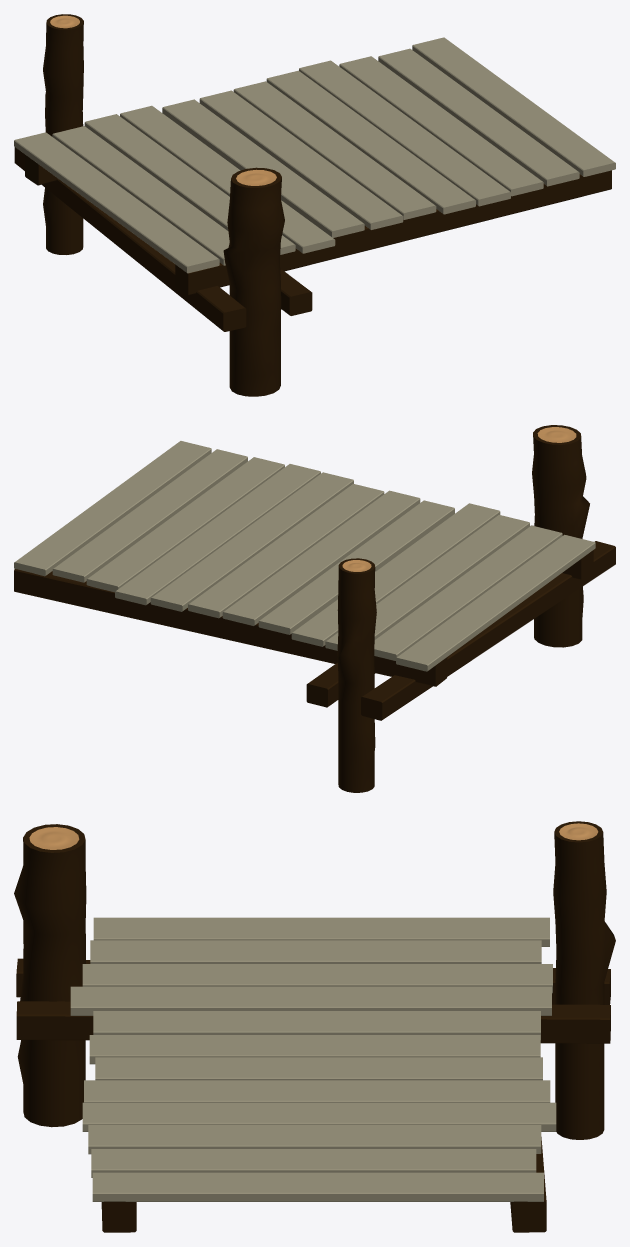
File: M_Sem04_Environment_WoodenPier_LODs_SBoewing.fbx
3 renders of one model, top to bottom at view 1: azimuth 30°, elevation 25°; view 2: azimuth 150°, elevation 25°; view 3: azimuth 270°, elevation 25°, orthographic. The views are drawn at different scales.
Visible parts, largest first — view 1: WoodenPier_LOD0; view 2: WoodenPier_LOD0; view 3: WoodenPier_LOD0.
Boxes of the visible parts, bbox=[...] form: WoodenPier_LOD0: bbox=[14, 14, 615, 396]; WoodenPier_LOD0: bbox=[14, 425, 615, 792]; WoodenPier_LOD0: bbox=[14, 821, 615, 1232].
Size of what is drawn, in the model's own units: 343 by 172 by 316.
